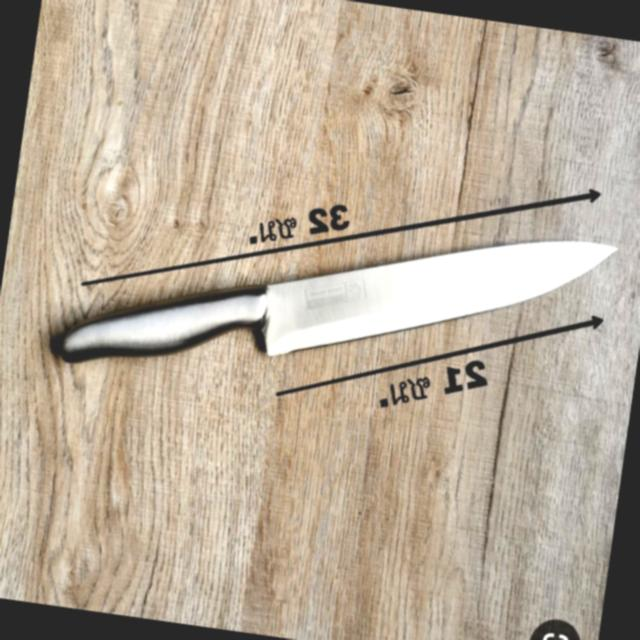knife: (48, 232, 627, 384)
